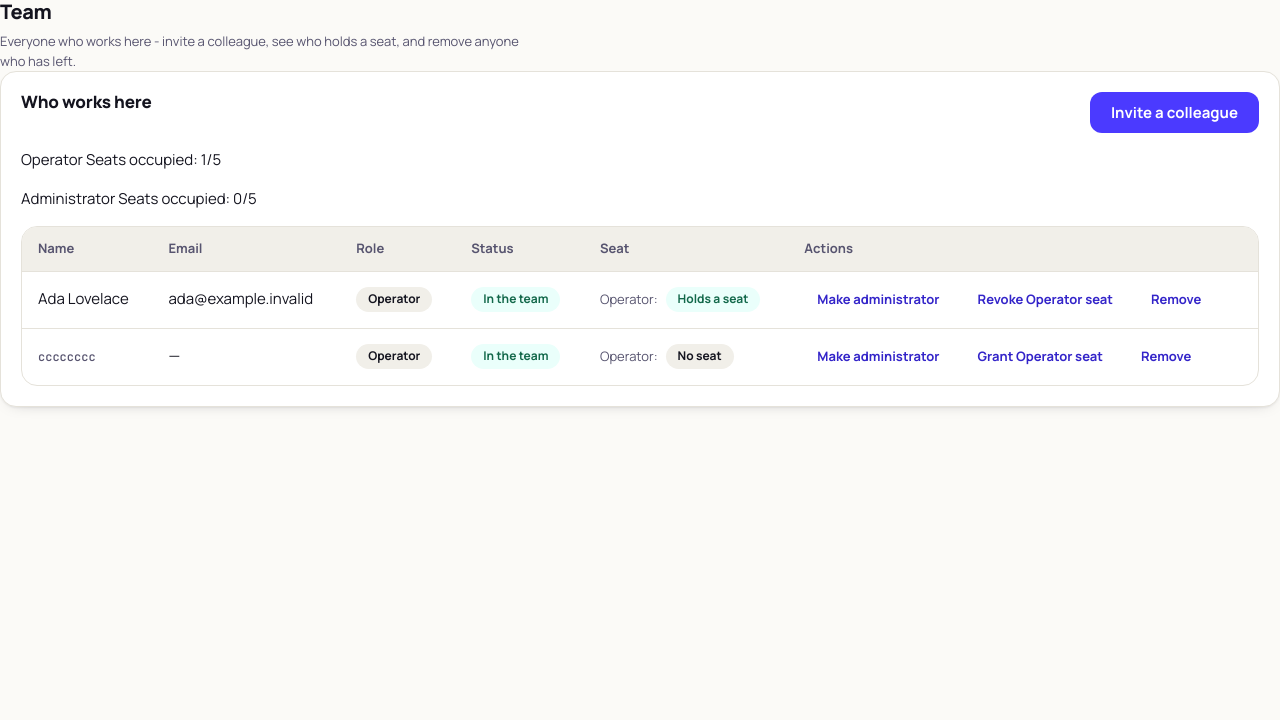
Test: the invite dialog's role multi-select › offers a checkbox per seeded role, none as a <select>, defaulting to Operator only
Click the button "Invite a colleague". click: (1174, 112)
box: [1090,92,1259,133]
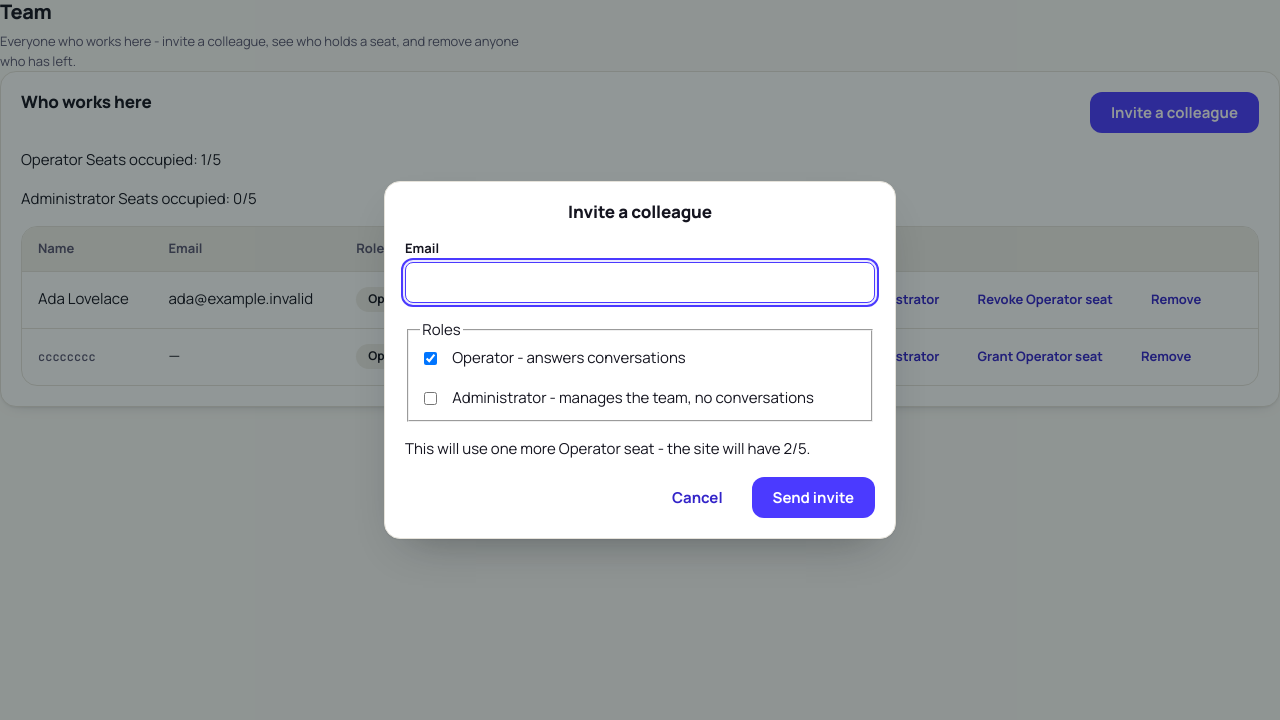
Expected: the checkbox labelled "Operator - answers conversations" is checked, [424,352,437,365]
Expected: the checkbox labelled "Administrator - manages the team, no conversations" is not checked, [424,392,437,405]
